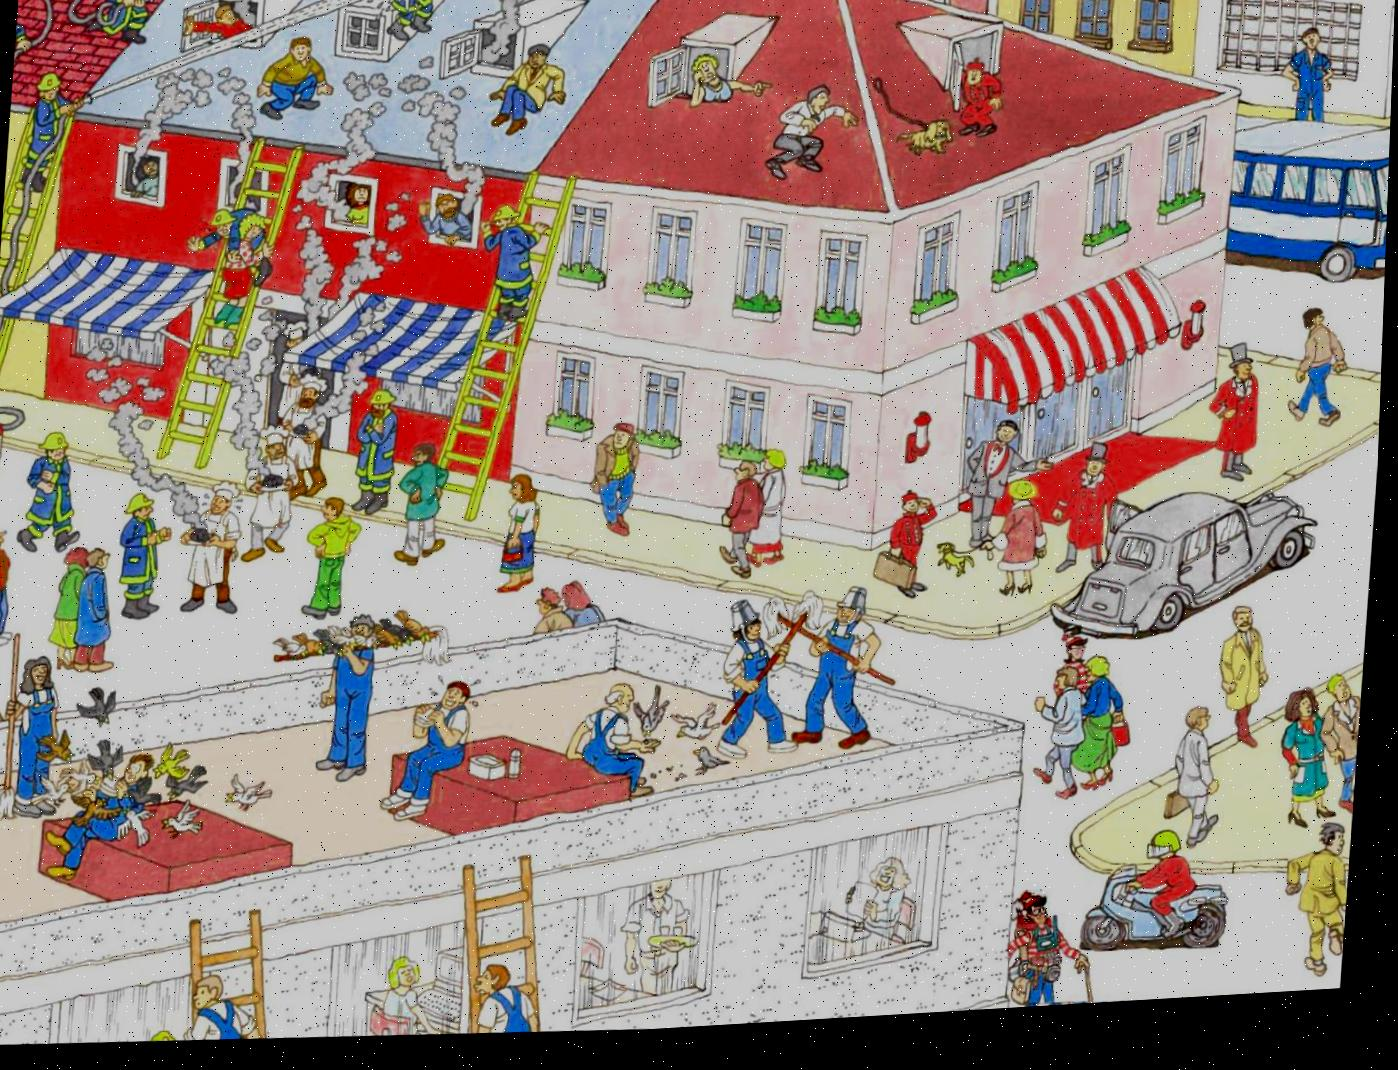waldo: (1025, 901, 1057, 938)
